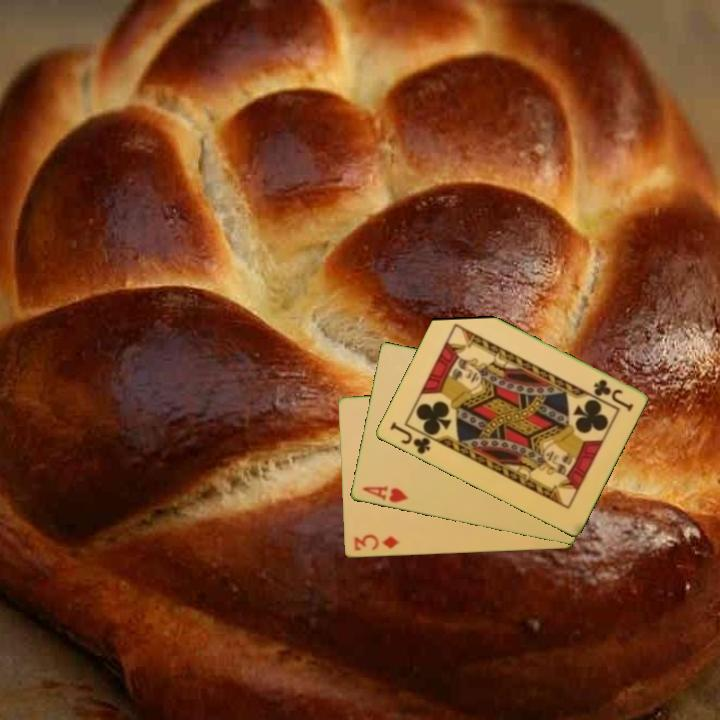3d: (350, 531, 401, 554)
Ah: (359, 483, 410, 506)
Jc: (386, 418, 433, 457), (590, 376, 636, 414)
